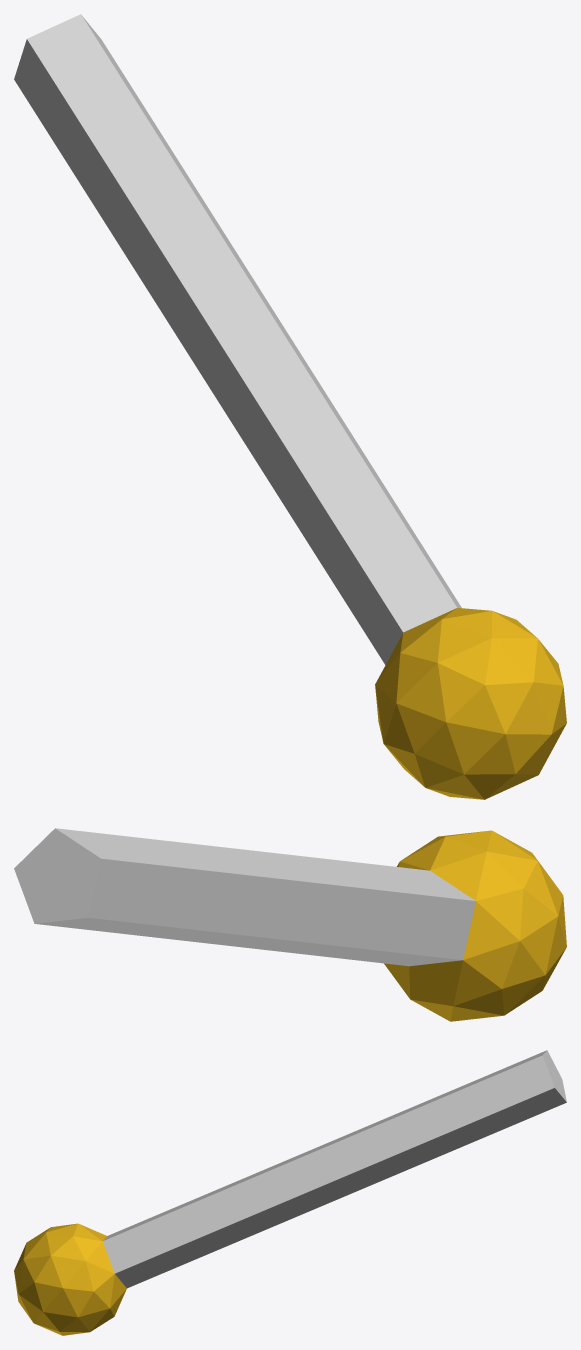
File: lever_lever.glb
3 renders of one model, top to bottom at view 1: azimuth 30°, elevation 25°; view 2: azimuth 150°, elevation 25°; view 3: azimuth 270°, elevation 25°, orthographic. The views are drawn at different scales.
Visible parts, largest first — view 1: Icosphere; view 2: Icosphere; view 3: Icosphere.
Part boxes in pixels (bbox=[...]): Icosphere: bbox=[14, 14, 566, 799]; Icosphere: bbox=[14, 828, 566, 1021]; Icosphere: bbox=[14, 1050, 566, 1335].
Bounding box in the file's own units: 0.1141 × 0.3203 × 0.5768.
